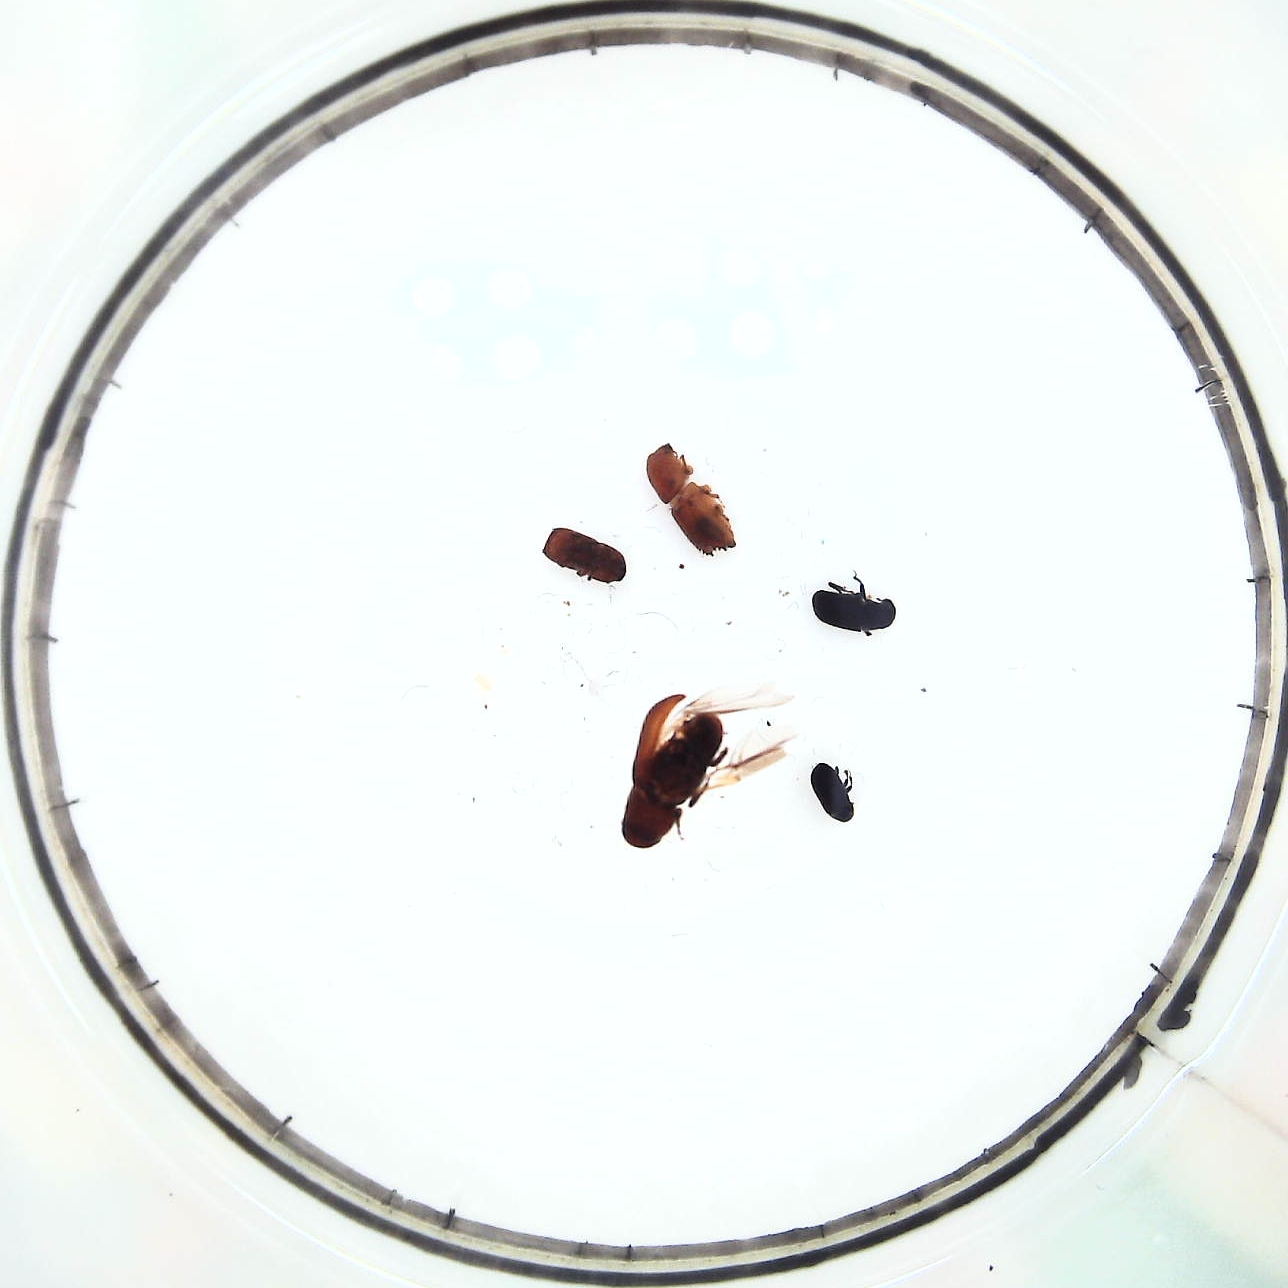Boerner: (648, 443, 737, 557)
Leconte: (622, 690, 743, 848)
Linnaeus: (543, 524, 627, 590)
armandi: (807, 587, 895, 637)
coleoptera: (809, 758, 855, 824)
